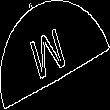M_S: (33, 23, 77, 87)
